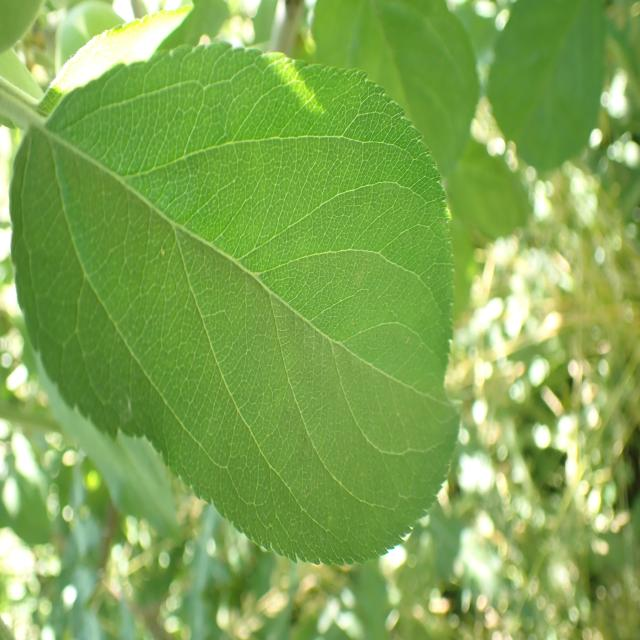healthy: (10, 5, 459, 567), (306, 0, 479, 181), (485, 0, 608, 177)
